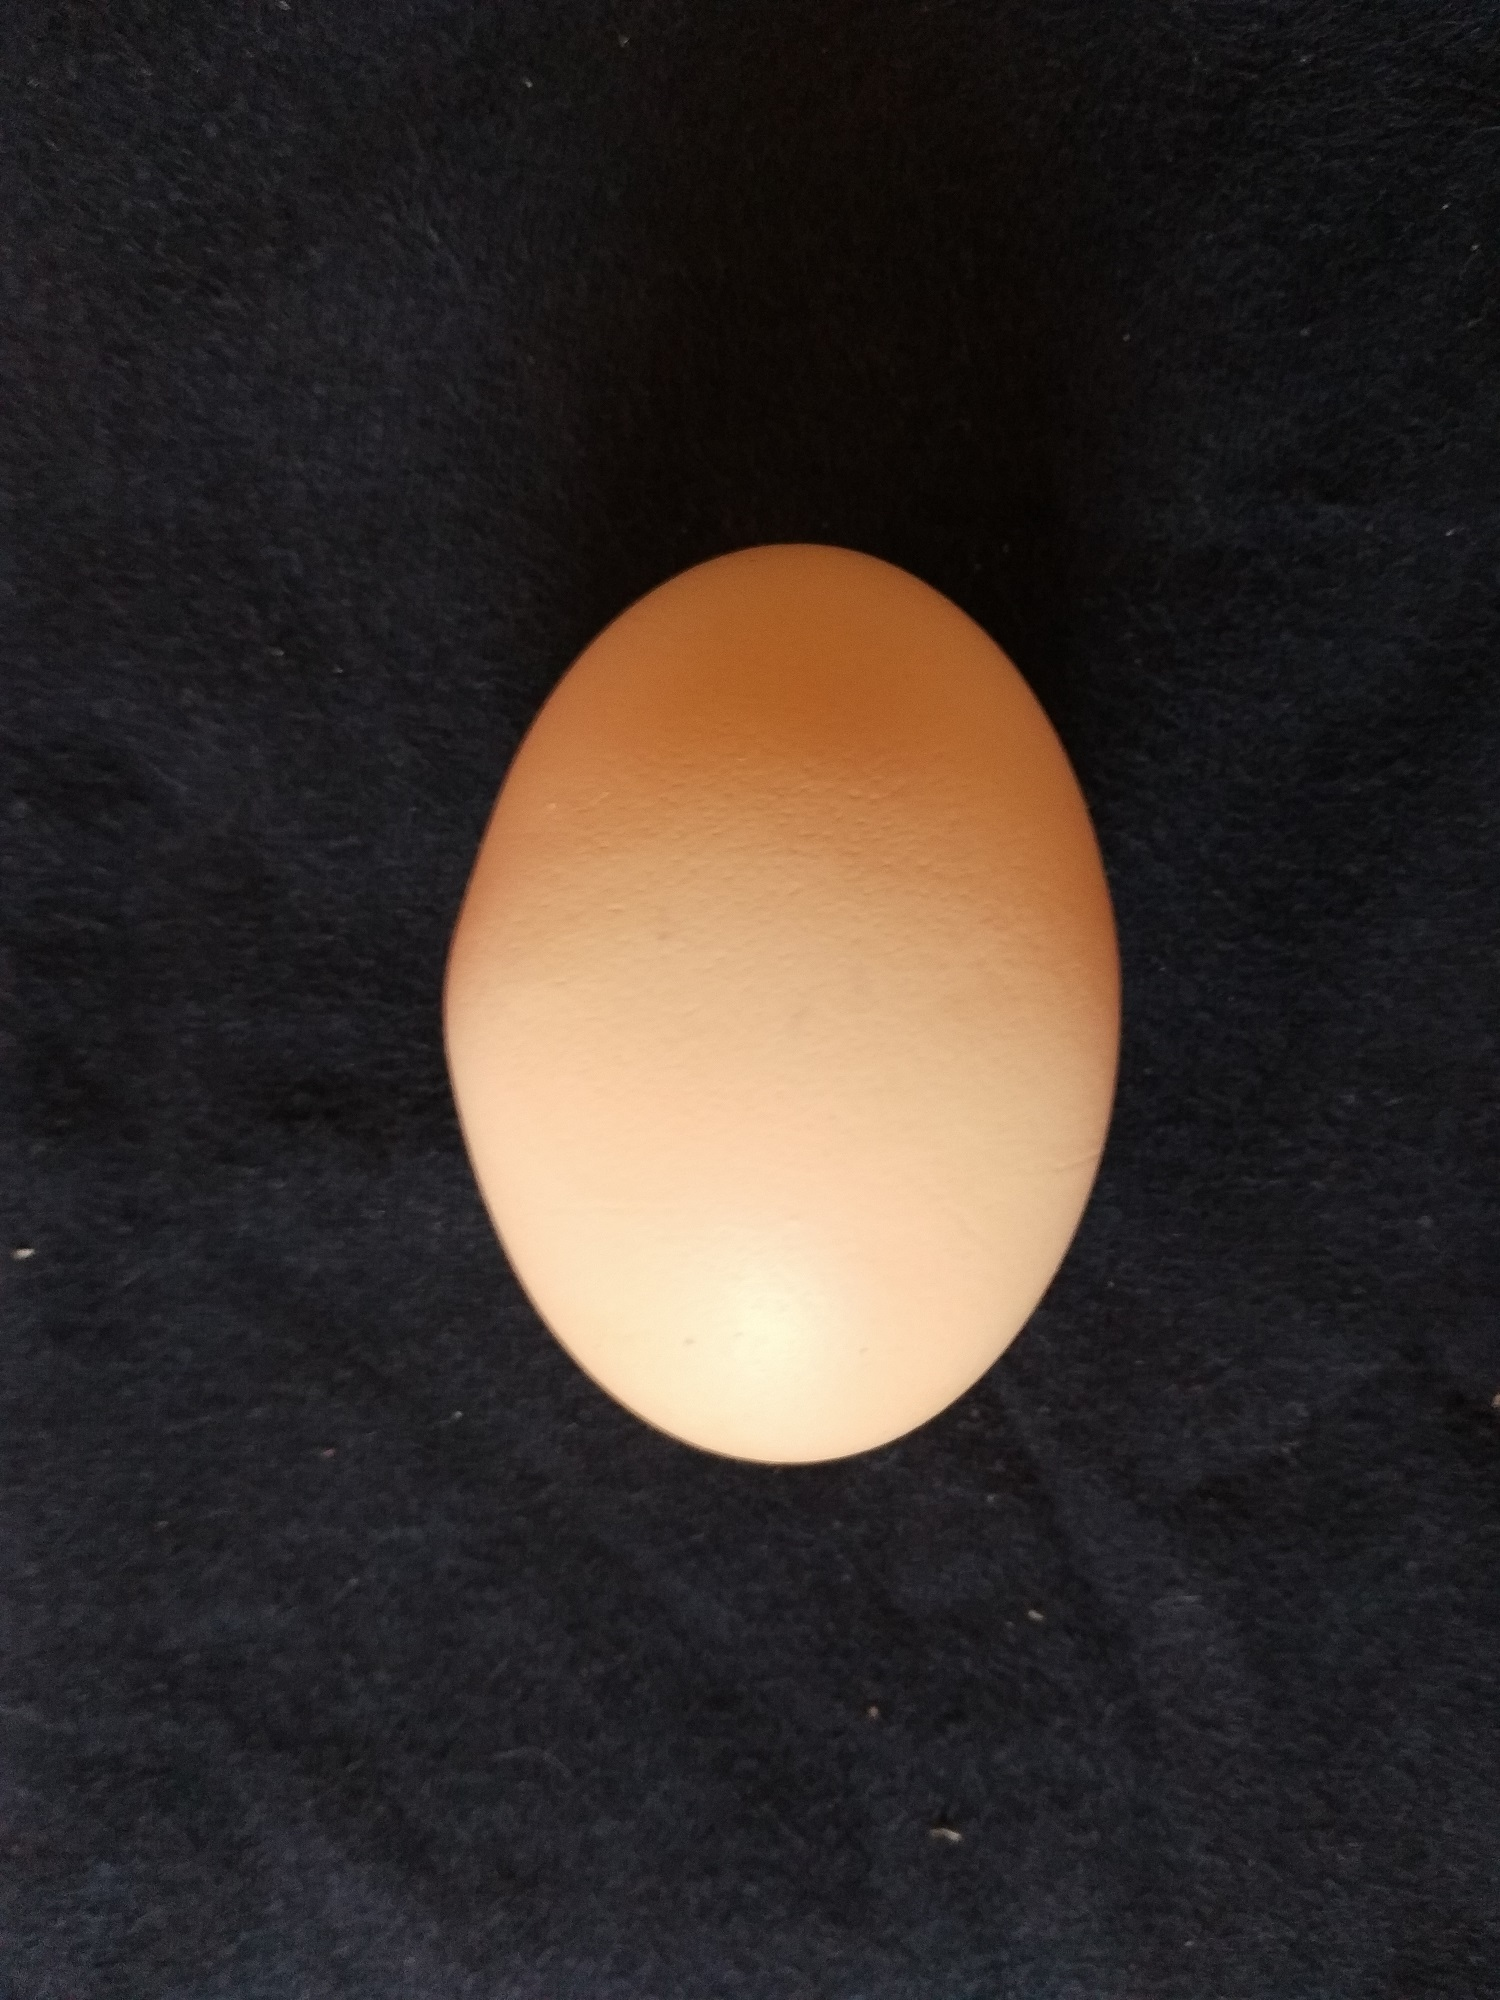Female: (433, 534, 1130, 1471)
